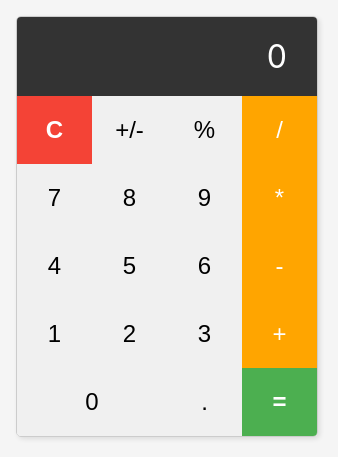
Calculator Component › handles number clicks and updates display
The width and height of the screenshot is (338, 457).
Click the button "1" at [54, 334], box [17,300,92,368]
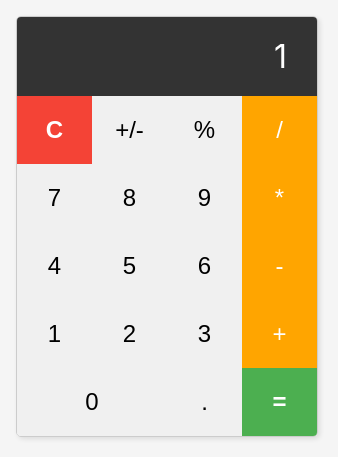
Click the button "2" at [130, 334], box [92,300,167,368]
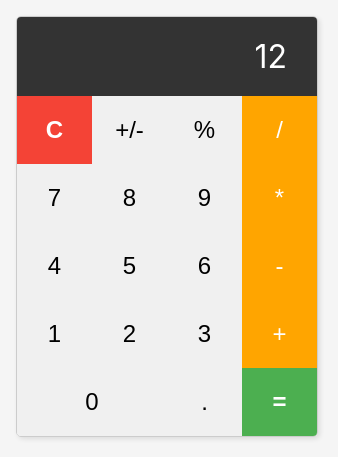
Click the button "3" at [204, 334], box [167,300,242,368]
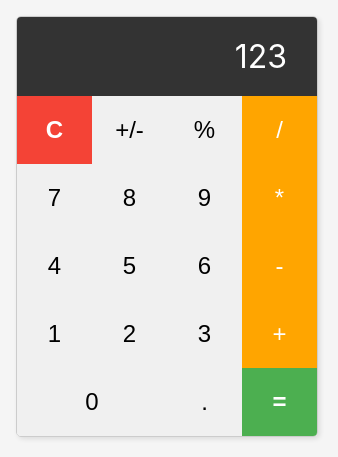
expect the field reads "123": met, box [235,36,287,76]
